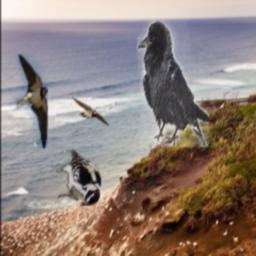Crow: (137, 20, 209, 147)
Swallow: (1, 55, 48, 150), (70, 95, 110, 126)
Woodpecker: (57, 151, 102, 207)
